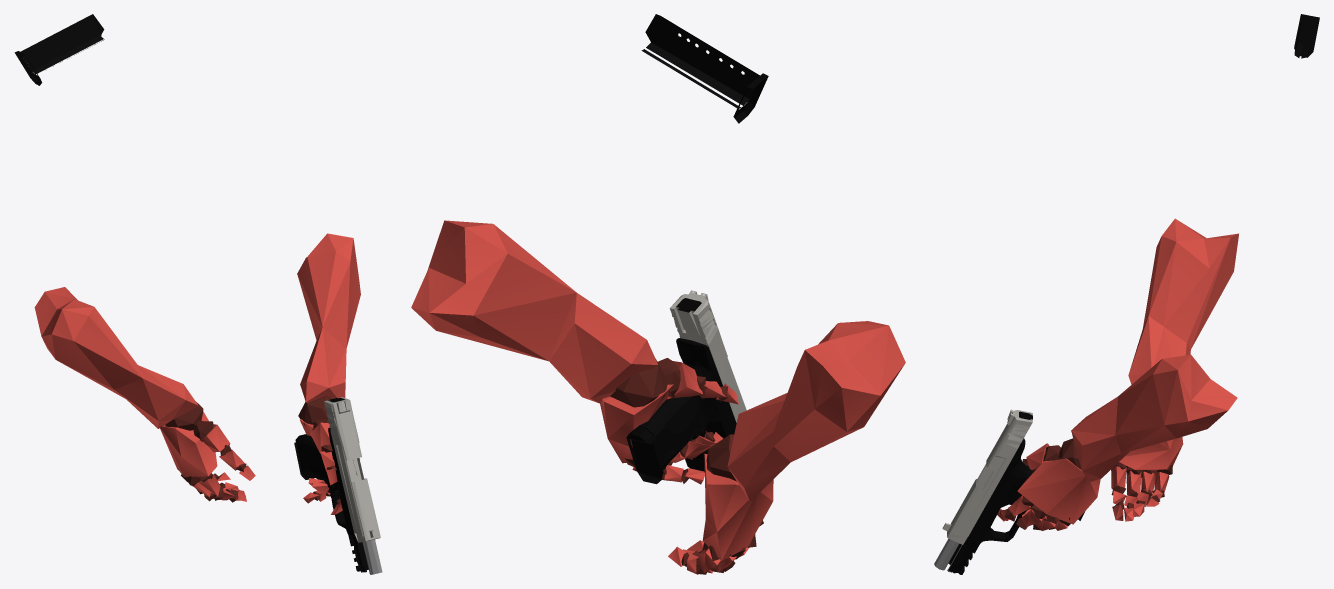
Rendered from M&P9reloadNormal1lowP_000106.obj.
3 views of the same model, side by side, from view 1: azimuth 30°, elevation 25°; view 2: azimuth 150°, elevation 25°; view 3: azimuth 270°, elevation 25° (orthographic). The views are drawn at different scales.
Visible parts, largest first — view 1: Beta_Surface.001_Beta_Surface.002, slide_平面.002, triger_平面.001, magazine.002_平面.005, Beta_Joints.001_Beta_Joints.002; view 2: Beta_Surface.001_Beta_Surface.002, triger_平面.001, magazine.002_平面.005, Beta_Joints.001_Beta_Joints.002, slide_平面.002; view 3: Beta_Surface.001_Beta_Surface.002, triger_平面.001, slide_平面.002, Beta_Joints.001_Beta_Joints.002, magazine.002_平面.005.
Boxes of the visible parts, x1=… form: Beta_Surface.001_Beta_Surface.002: x1=34, y1=233, x2=360, y2=514; slide_平面.002: x1=324, y1=397, x2=380, y2=542; triger_平面.001: x1=295, y1=427, x2=382, y2=574; magazine.002_平面.005: x1=14, y1=14, x2=104, y2=85; Beta_Joints.001_Beta_Joints.002: x1=165, y1=396, x2=341, y2=507; Beta_Surface.001_Beta_Surface.002: x1=411, y1=220, x2=905, y2=574; triger_平面.001: x1=626, y1=338, x2=736, y2=477; magazine.002_平面.005: x1=641, y1=14, x2=768, y2=123; Beta_Joints.001_Beta_Joints.002: x1=610, y1=358, x2=763, y2=574; slide_平面.002: x1=669, y1=290, x2=746, y2=422; Beta_Surface.001_Beta_Surface.002: x1=997, y1=218, x2=1238, y2=530; triger_平面.001: x1=934, y1=438, x2=1034, y2=574; slide_平面.002: x1=942, y1=409, x2=1032, y2=544; Beta_Joints.001_Beta_Joints.002: x1=999, y1=438, x2=1172, y2=530; magazine.002_平面.005: x1=1294, y1=14, x2=1319, y2=58.
Bounding box in the file's own units: 80.85 × 114 × 81.86.
